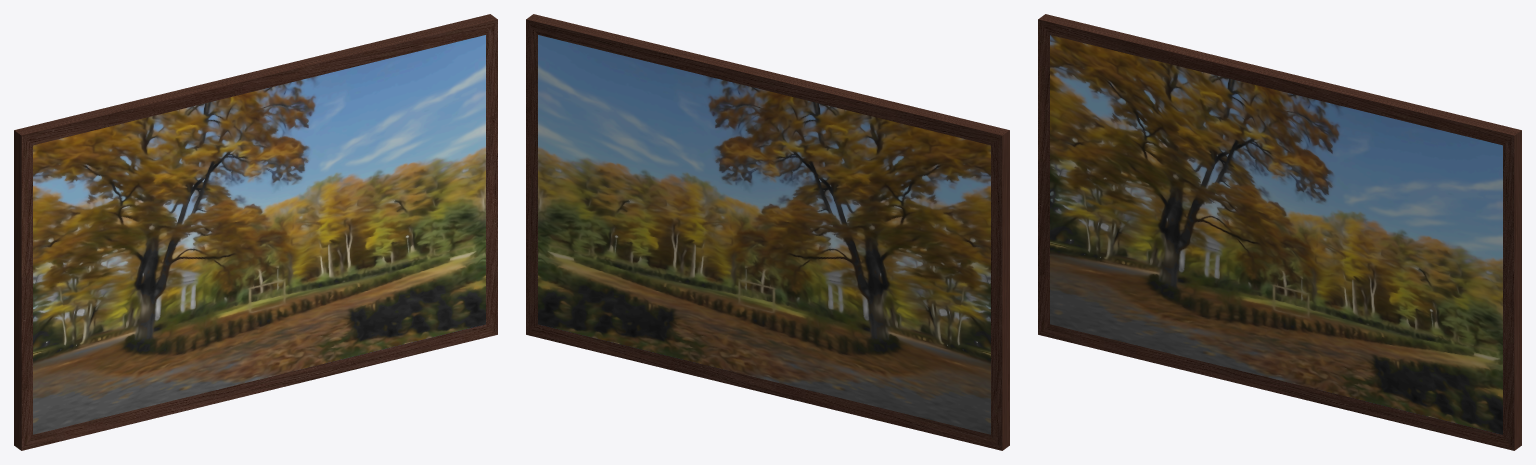
The model's file is Painting_4.fbx.
The picture shows the model from 3 angles, left to right: view 1: azimuth 30°, elevation 25°; view 2: azimuth 150°, elevation 25°; view 3: azimuth 330°, elevation 25°; orthographic projection.
Visible parts, largest first — view 1: Painting_4; view 2: Painting_4; view 3: Painting_4.
Part boxes in pixels (x1,y1,x2,y2): Painting_4: [14, 14, 497, 450]; Painting_4: [526, 14, 1009, 450]; Painting_4: [1038, 14, 1521, 450].
Size of the model in its own units: 144 by 90.82 by 3.88.
